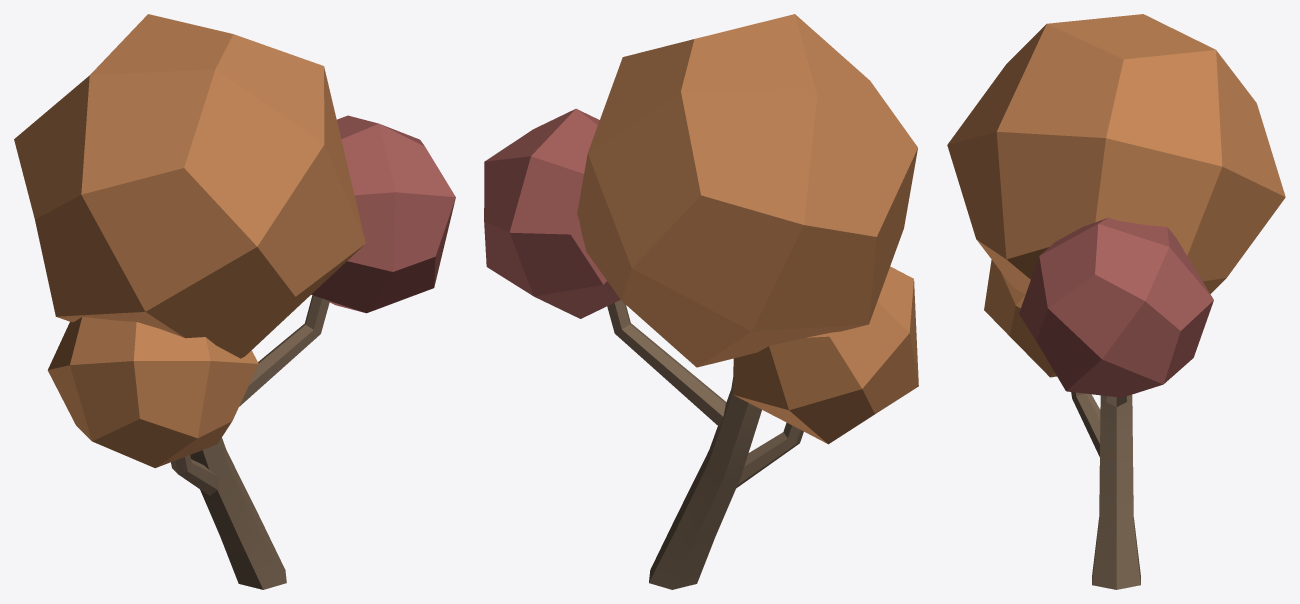
Rendered from Tree_04.fbx.
3 renders of one model, left to right at view 1: azimuth 30°, elevation 25°; view 2: azimuth 150°, elevation 25°; view 3: azimuth 270°, elevation 25°, orthographic. The views are drawn at different scales.
Visible parts, largest first — view 1: Tree_04; view 2: Tree_04; view 3: Tree_04.
Part boxes in pixels (x1,y1,x2,y2): Tree_04: (14,14,455,589); Tree_04: (484,14,918,589); Tree_04: (947,14,1285,589).
Size of the model in its own units: 114 by 153 by 90.3.
